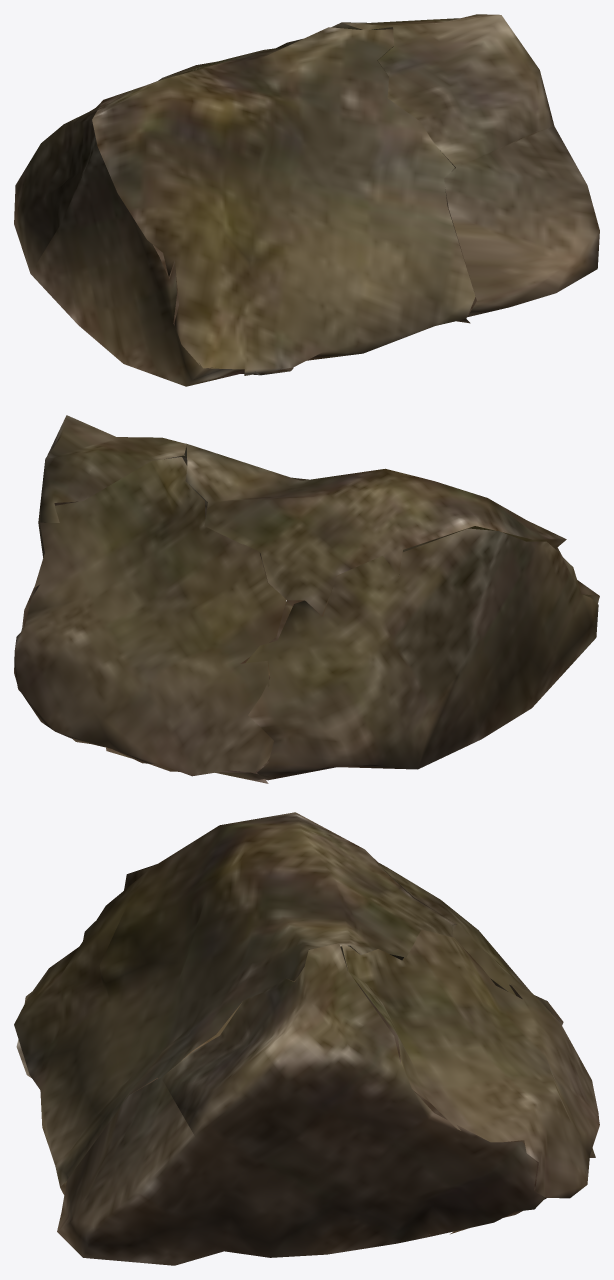
File: rock_moss_e.glb
The picture shows the model from 3 angles, top to bottom: view 1: azimuth 30°, elevation 25°; view 2: azimuth 150°, elevation 25°; view 3: azimuth 270°, elevation 25°; orthographic projection. The views are drawn at different scales.
Parts seen in each view (by area): view 1: rock_moss_set_01_rock03; view 2: rock_moss_set_01_rock03; view 3: rock_moss_set_01_rock03.
Part boxes in pixels (box(x1,y1,x2,y2)): rock_moss_set_01_rock03: box(14, 14, 599, 386); rock_moss_set_01_rock03: box(14, 415, 599, 783); rock_moss_set_01_rock03: box(14, 812, 599, 1265).
Bounding box in the file's own units: 2.11 × 1.1 × 2.08.
Materials: 1 (1 with a texture image).
